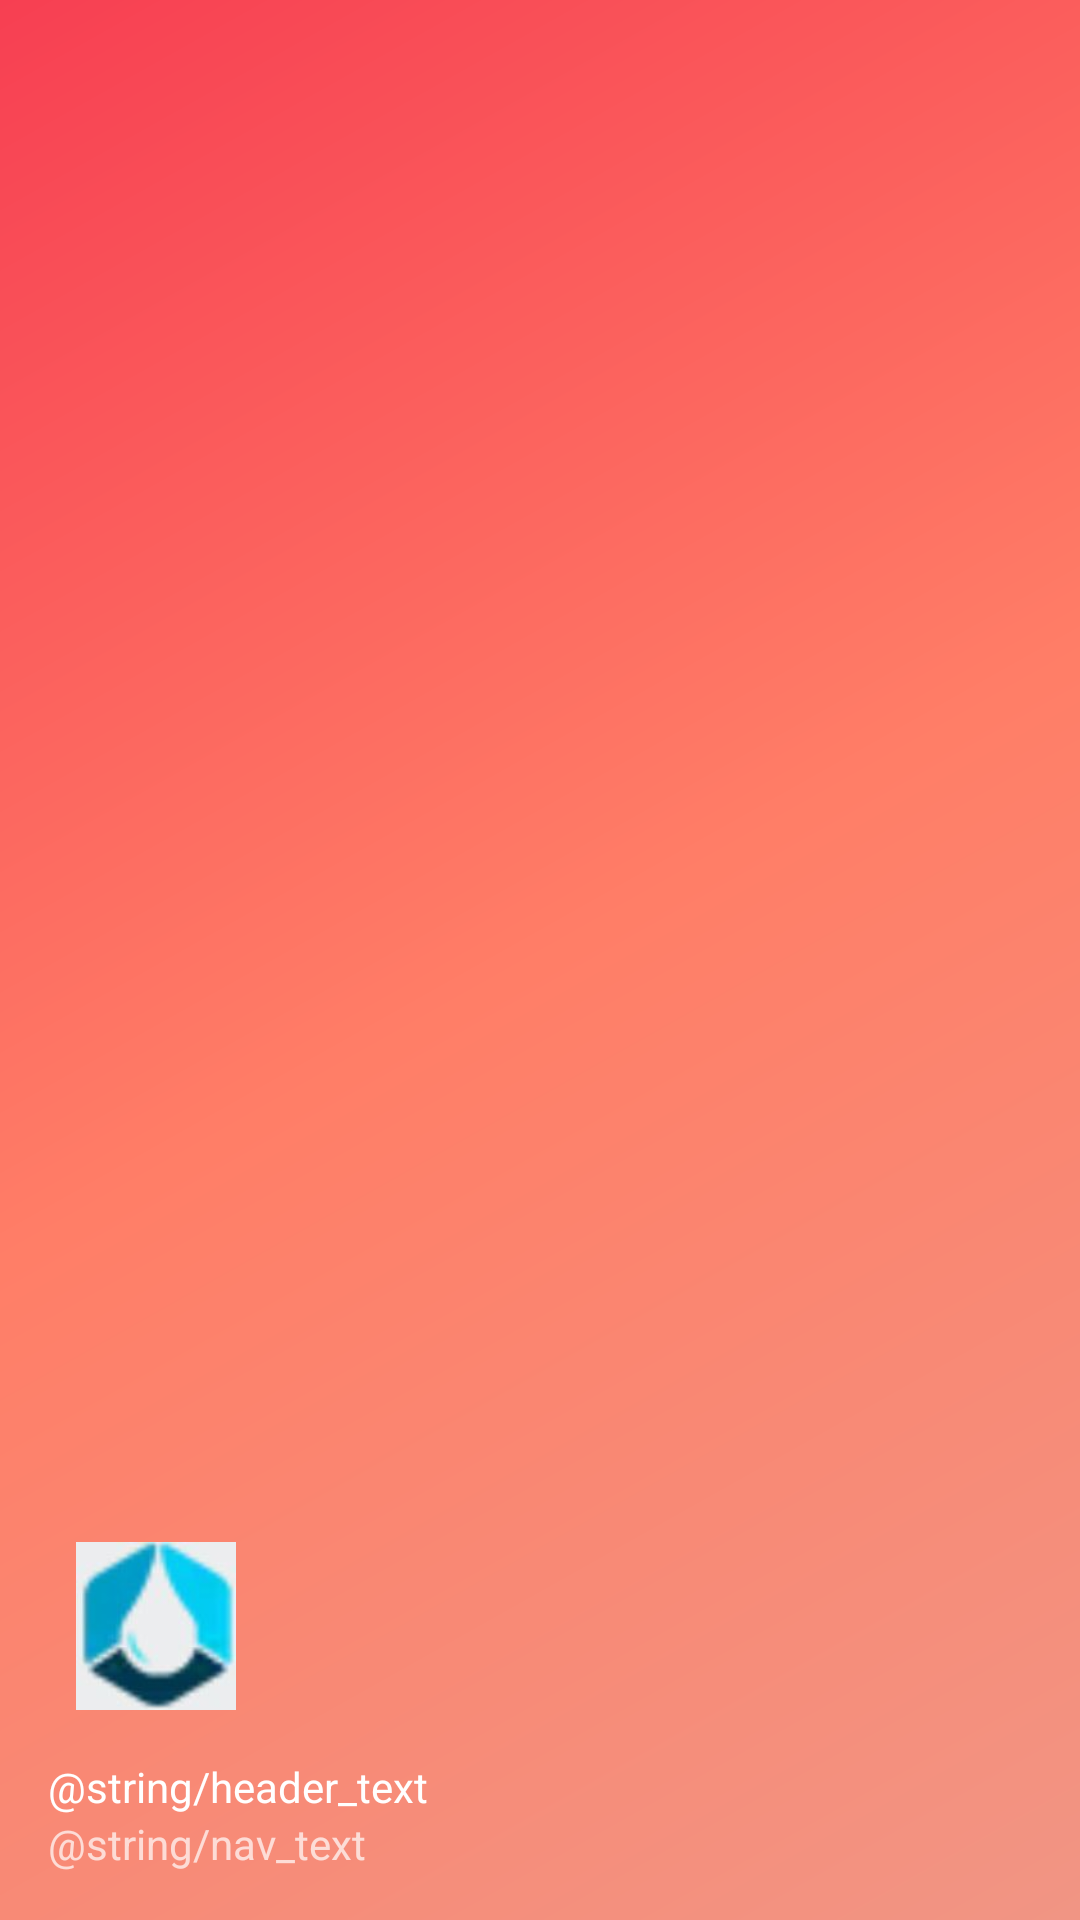

Icon bounding boxes for this 1080px x 1920px phone screenshot, format (x1, y1, x2, y2):
app: (76, 1542, 236, 1710)
